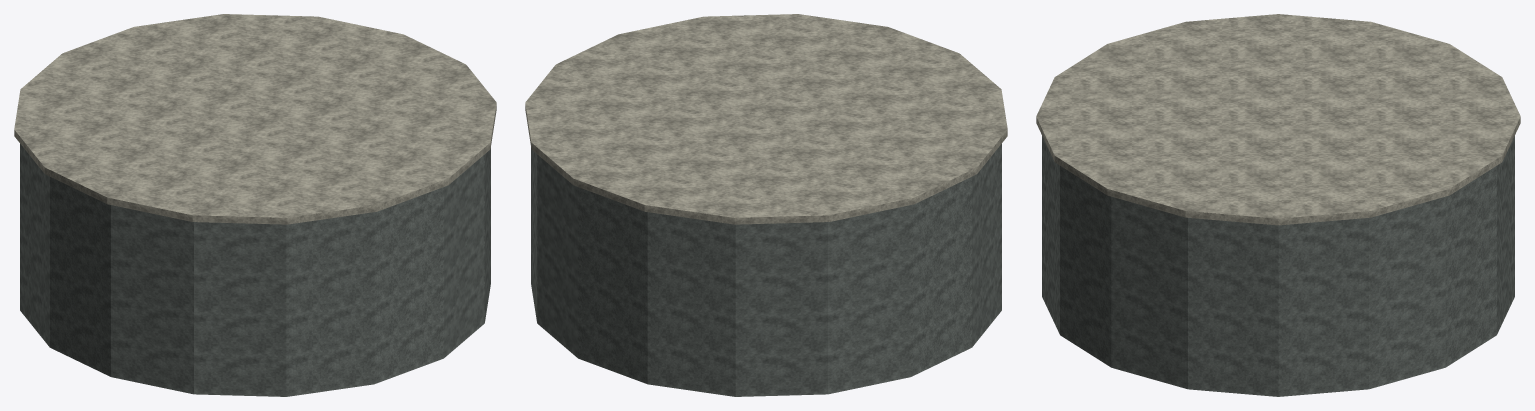
Rendered from Strategic_StorageTank.fbx.
The picture shows the model from 3 angles, left to right: view 1: azimuth 30°, elevation 25°; view 2: azimuth 150°, elevation 25°; view 3: azimuth 270°, elevation 25°; orthographic projection.
Parts seen in each view (by area): view 1: Strategic_StorageTank; view 2: Strategic_StorageTank; view 3: Strategic_StorageTank.
Boxes of the visible parts, x1,y1,x2,y2 form: Strategic_StorageTank: [14, 14, 496, 396]; Strategic_StorageTank: [525, 14, 1007, 396]; Strategic_StorageTank: [1036, 14, 1520, 396].
Size of the model in its own units: 3280 by 1350 by 3280.
